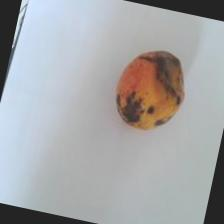Mango Rotten: (107, 39, 198, 140)
